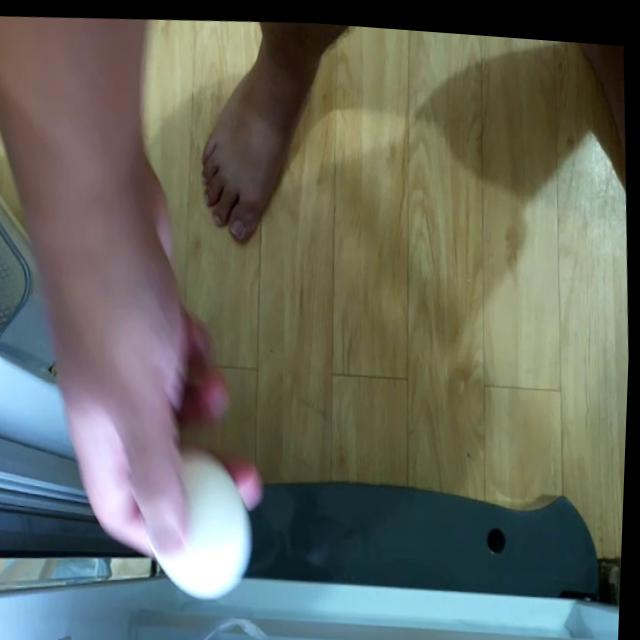egg: (146, 440, 260, 597)
